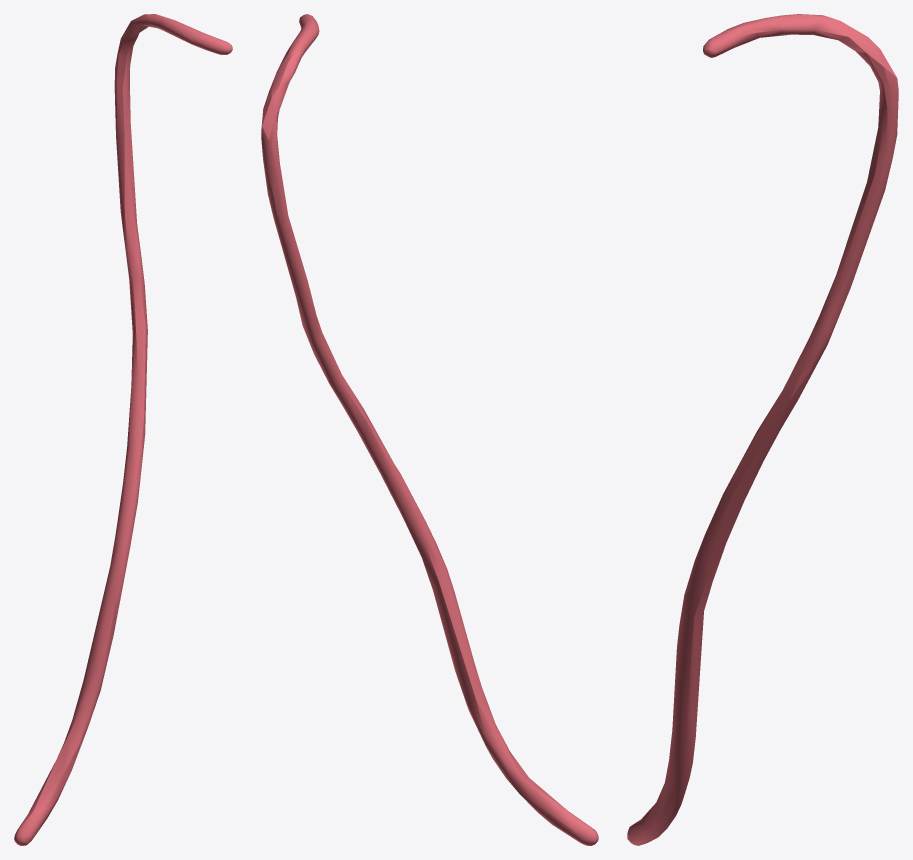
Rendered from fma15394_fj3400.glb.
3 renders of one model, left to right at view 1: azimuth 30°, elevation 25°; view 2: azimuth 150°, elevation 25°; view 3: azimuth 270°, elevation 25°, orthographic. The views are drawn at different scales.
Visible parts, largest first — view 1: FMA15394_FJ3400; view 2: FMA15394_FJ3400; view 3: FMA15394_FJ3400.
Part boxes in pixels (left/top/right/bottom): FMA15394_FJ3400: left=14, top=14, right=232, bottom=845; FMA15394_FJ3400: left=261, top=14, right=598, bottom=845; FMA15394_FJ3400: left=627, top=14, right=898, bottom=845.
Size of the model in its own units: 0.0316 by 0.0904 by 0.0232.
